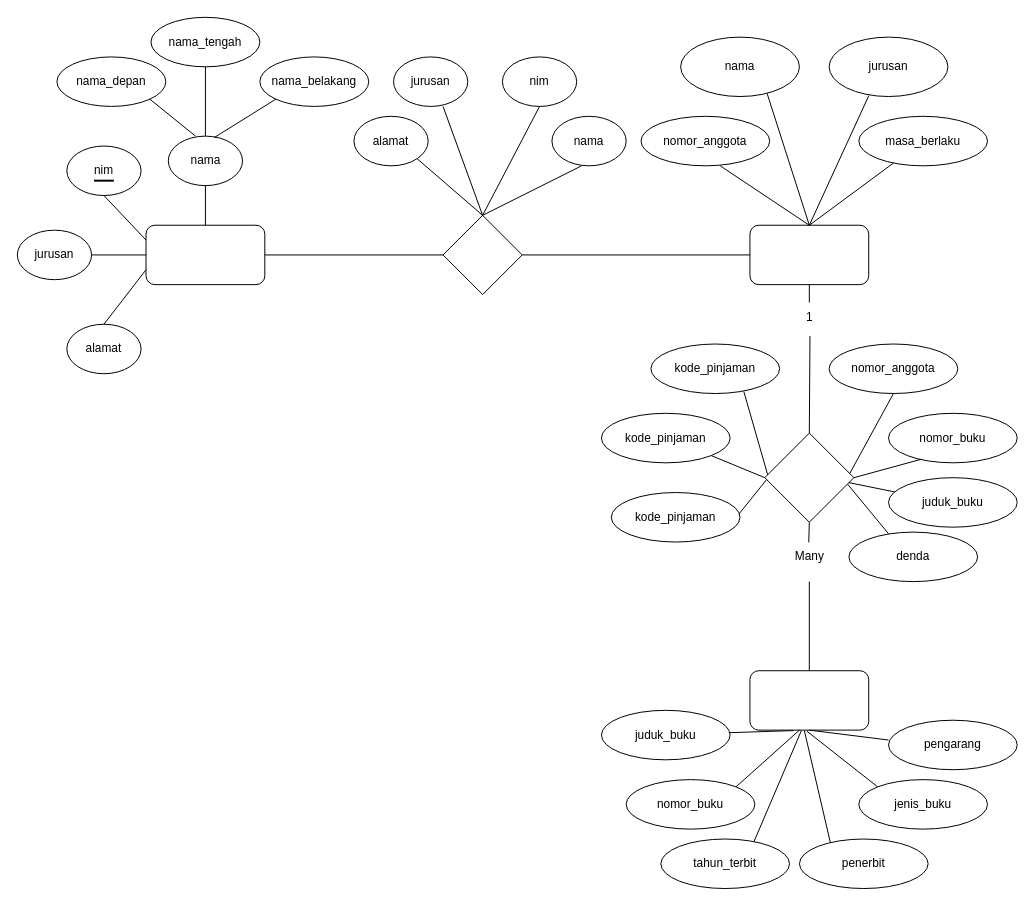
This 1035x906 diagram has some shape labels left out. The centre of each missing label's shape, as x and y in pixels:
"anggota perpustakaan" belongs at (809,254).
"buku" belongs at (809,700).
"Mahasiswa" belongs at (205,254).
"meminjam" belongs at (809,477).
"mendatar" belongs at (482,254).
